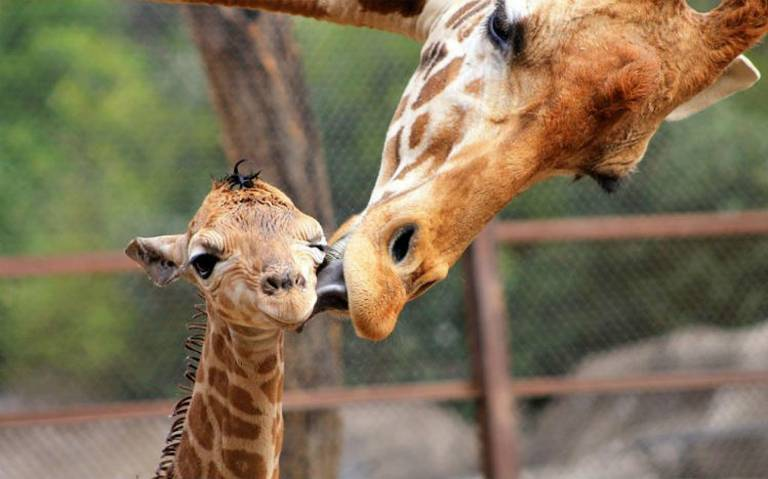Jirafa: (117, 169, 340, 359)
